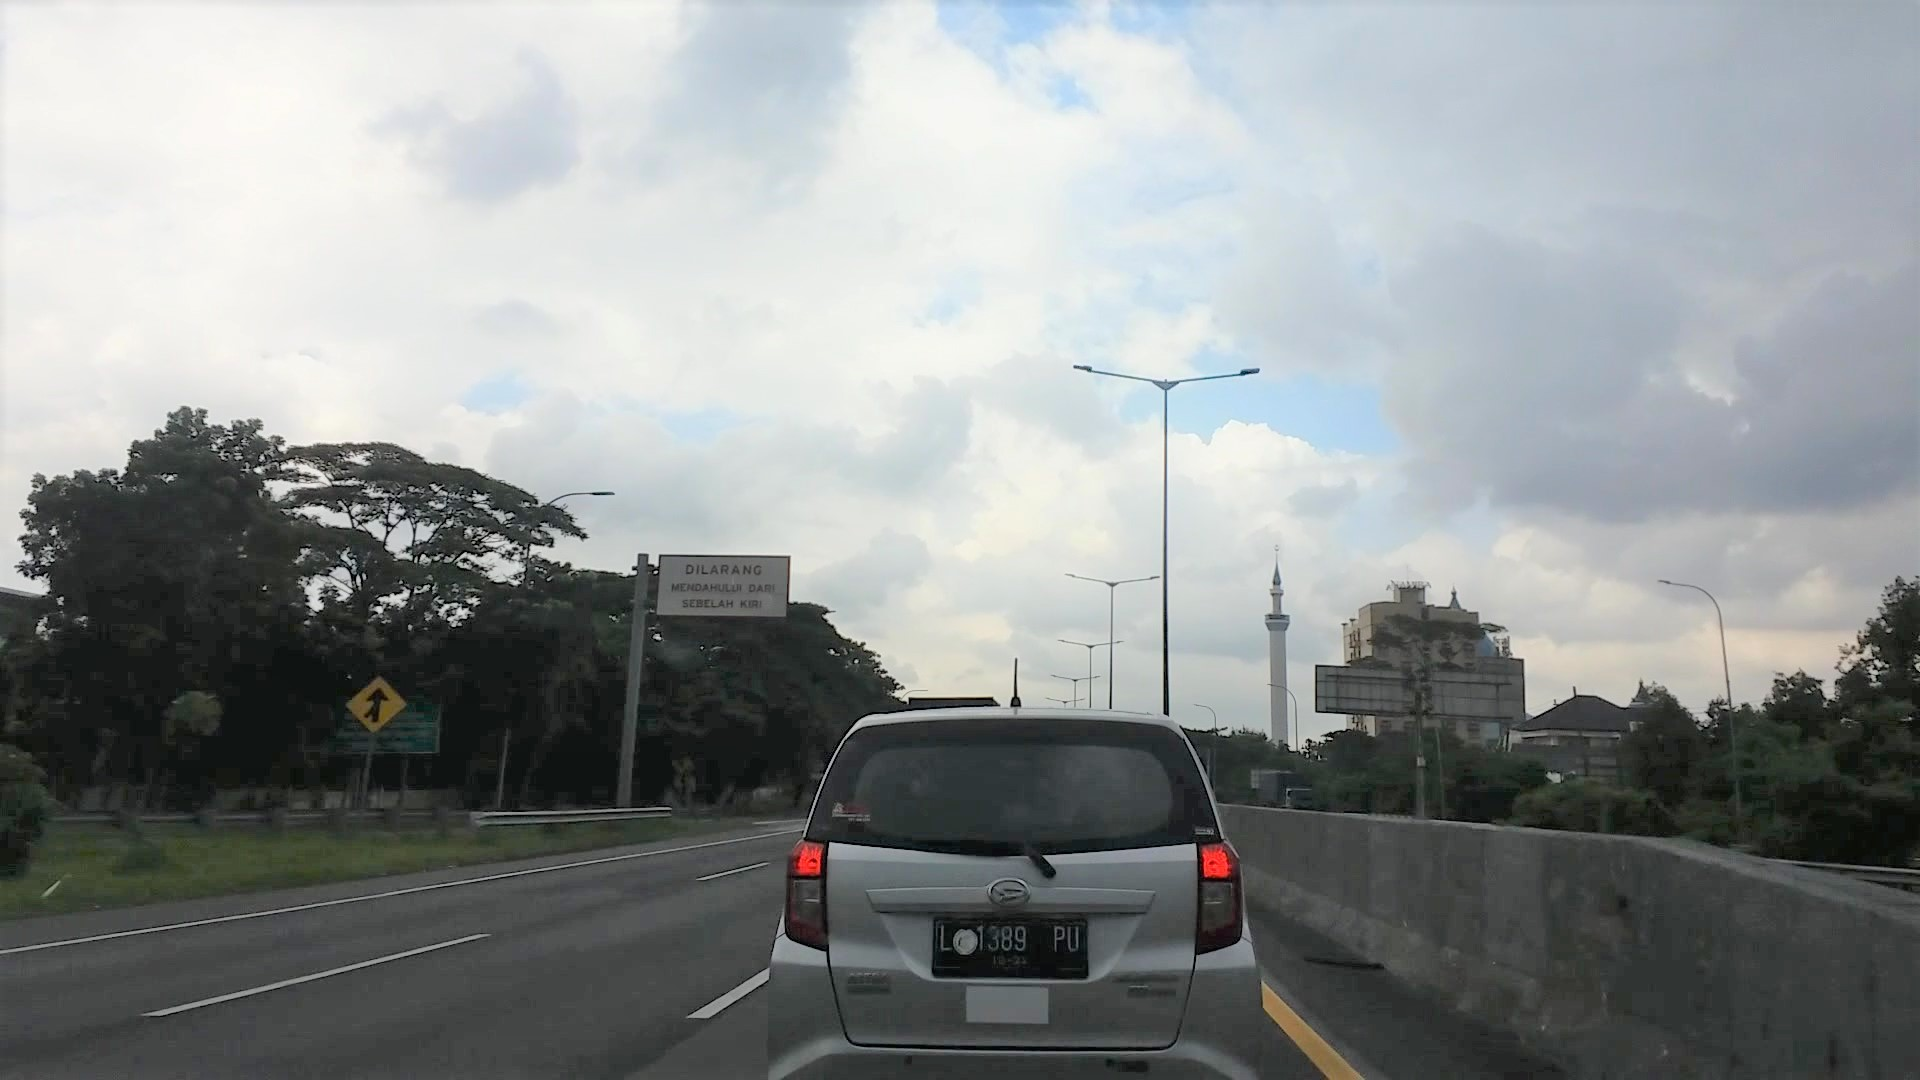plate_positive: (934, 914, 1088, 980)
